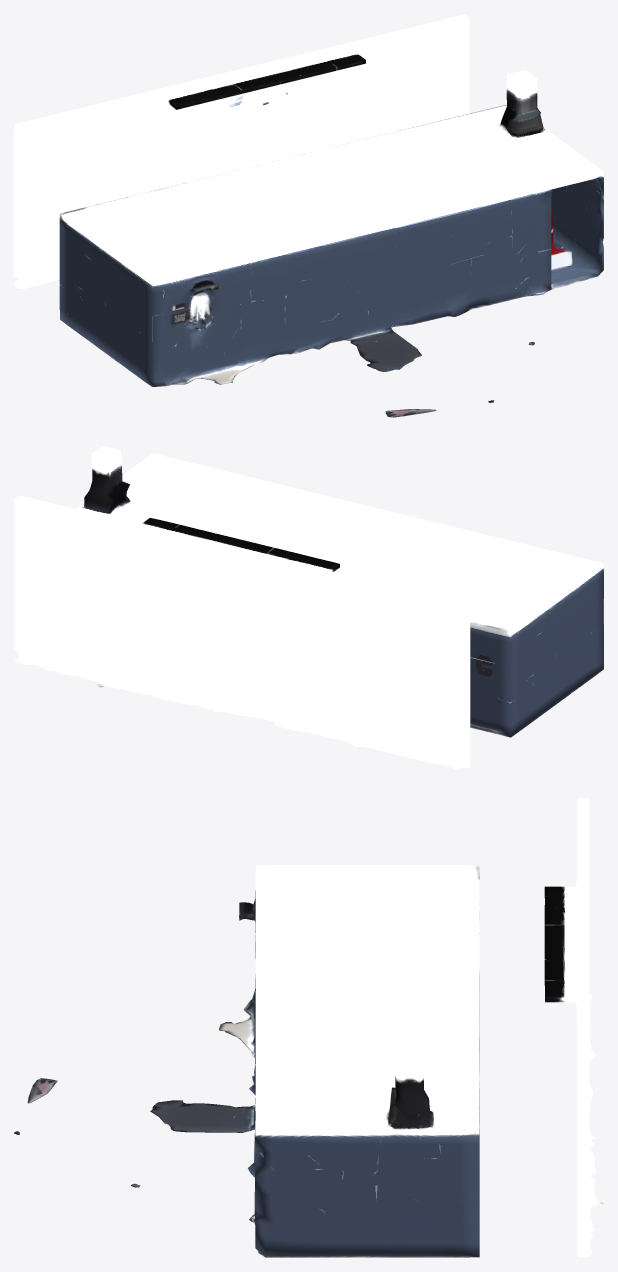
File: desk.glb
3 views of the same model, one above another, from view 1: azimuth 30°, elevation 25°; view 2: azimuth 150°, elevation 25°; view 3: azimuth 270°, elevation 25° (orthographic). The views are drawn at different scales.
Bounding box in the file's own units: 1.91 × 0.6577 × 1.8.
Materials: 1 (1 with a texture image).
